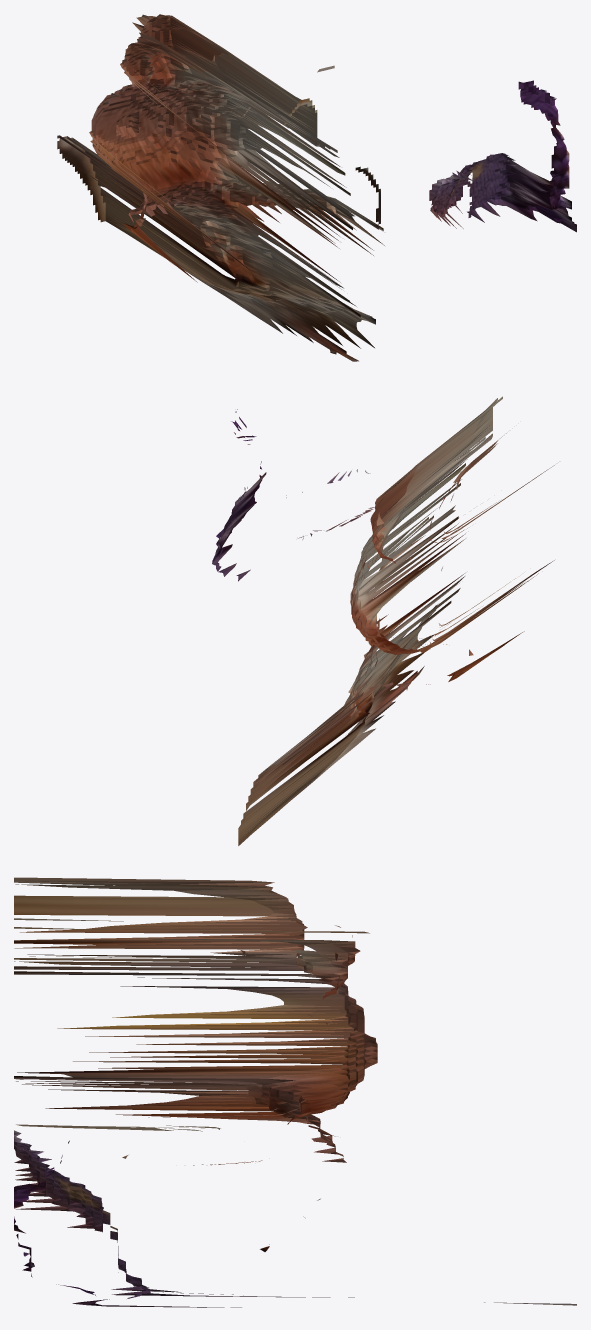
Rendered from frame_00323.glb.
The picture shows the model from 3 angles, top to bottom: view 1: azimuth 30°, elevation 25°; view 2: azimuth 150°, elevation 25°; view 3: azimuth 270°, elevation 25°; orthographic projection. The views are drawn at different scales.
Visible parts, largest first — view 1: geometry_0; view 2: geometry_0; view 3: geometry_0.
Part boxes in pixels (x1=…): geometry_0: x1=57, y1=14, x2=576, y2=361; geometry_0: x1=212, y1=396, x2=554, y2=845; geometry_0: x1=14, y1=877, x2=576, y2=1307.
Bounding box in the file's own units: 0.1357 × 0.1154 × 0.16.
Materials: 1 (1 with a texture image).
